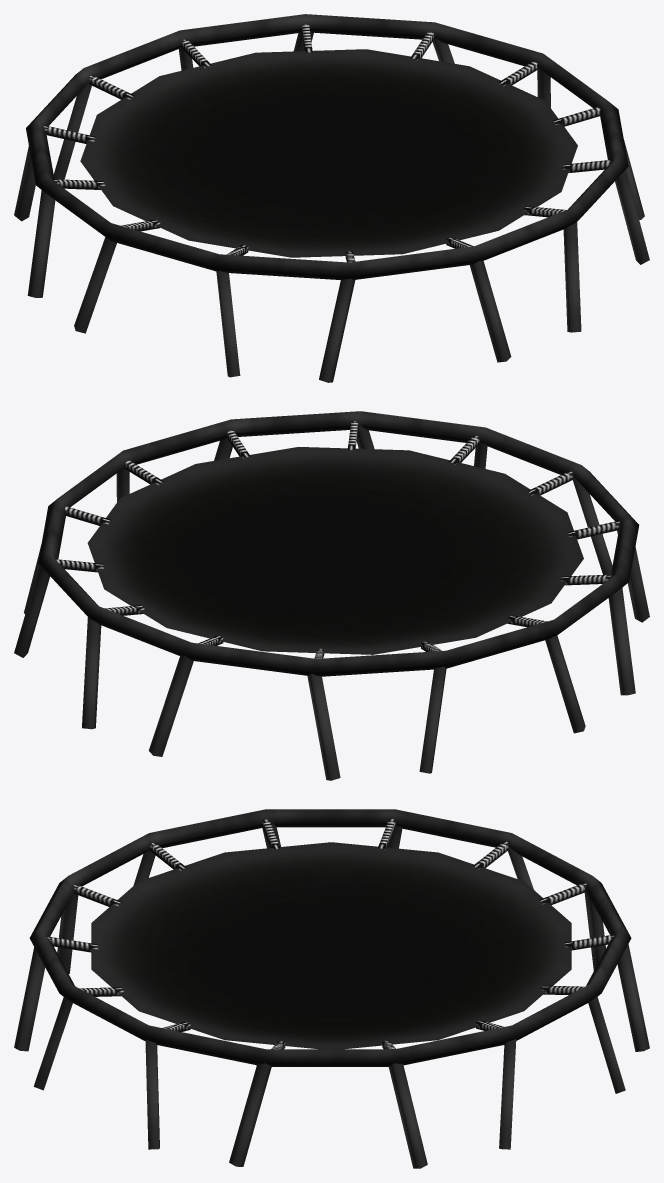
The model's file is Trampoline.fbx.
The picture shows the model from 3 angles, top to bottom: view 1: azimuth 30°, elevation 25°; view 2: azimuth 150°, elevation 25°; view 3: azimuth 270°, elevation 25°; orthographic projection.
Visible parts, largest first — view 1: Trampoline; view 2: Trampoline; view 3: Trampoline.
Part boxes in pixels (x1=…): Trampoline: x1=14, y1=14, x2=649, y2=382; Trampoline: x1=14, y1=411, x2=649, y2=780; Trampoline: x1=14, y1=809, x2=649, y2=1168.
Size of the model in its own units: 197 by 39.31 by 202.
